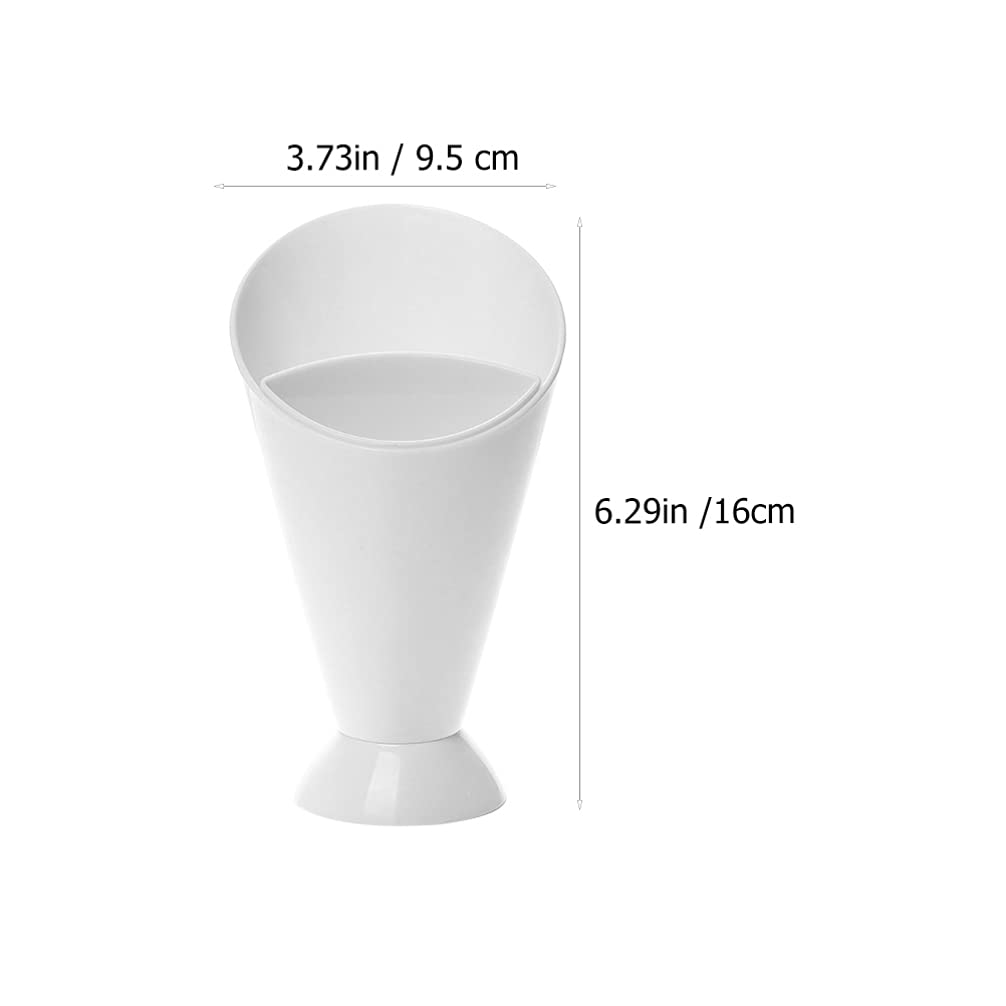/: (390, 143, 404, 176)
/16cm: (699, 497, 795, 530)
3.73in: (287, 144, 379, 171)
6.29in: (595, 497, 687, 524)
9.5: (416, 144, 462, 171)
cm: (475, 150, 518, 171)
